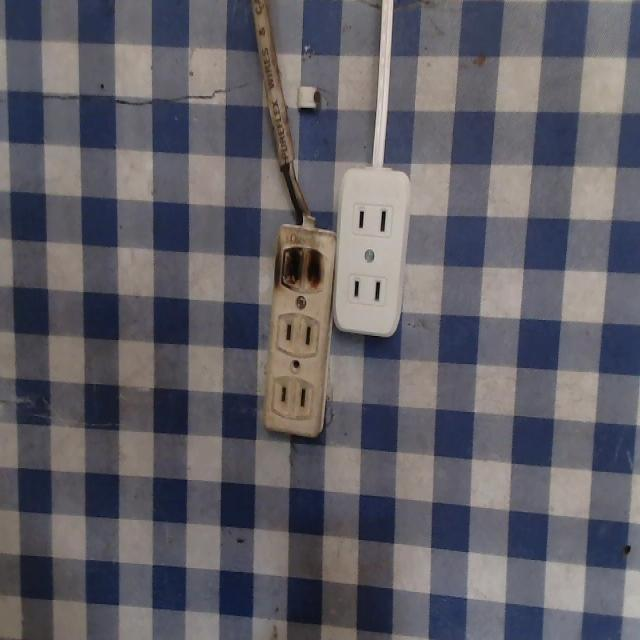-: (273, 228, 329, 301)
